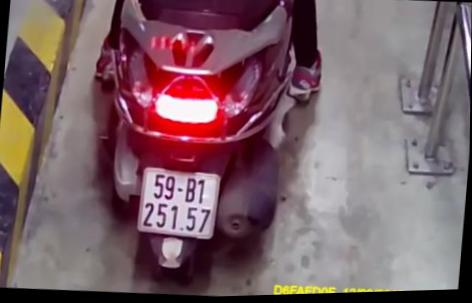LP: (135, 162, 222, 244)
